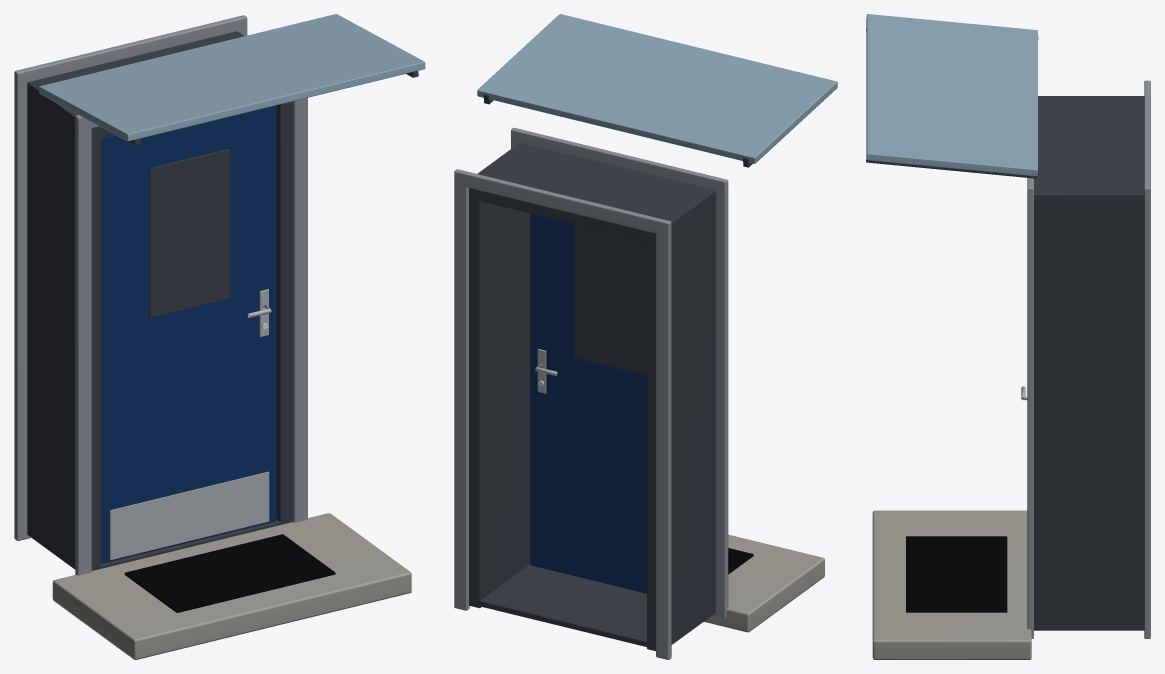
File: back_door.glb
The picture shows the model from 3 angles, left to right: view 1: azimuth 30°, elevation 25°; view 2: azimuth 150°, elevation 25°; view 3: azimuth 270°, elevation 25°; orthographic projection. The views are drawn at different scales.
Parts seen in each view (by area): view 1: Frame, Leaf; view 2: Frame, Leaf; view 3: Frame.
Part boxes in pixels (x1=…): Frame: x1=14, y1=14, x2=425, y2=659; Leaf: x1=101, y1=105, x2=276, y2=563; Frame: x1=454, y1=14, x2=837, y2=659; Leaf: x1=530, y1=213, x2=646, y2=593; Frame: x1=866, y1=14, x2=1150, y2=659.
Bounding box in the file's own units: 1.5 × 2.56 × 1.29.
